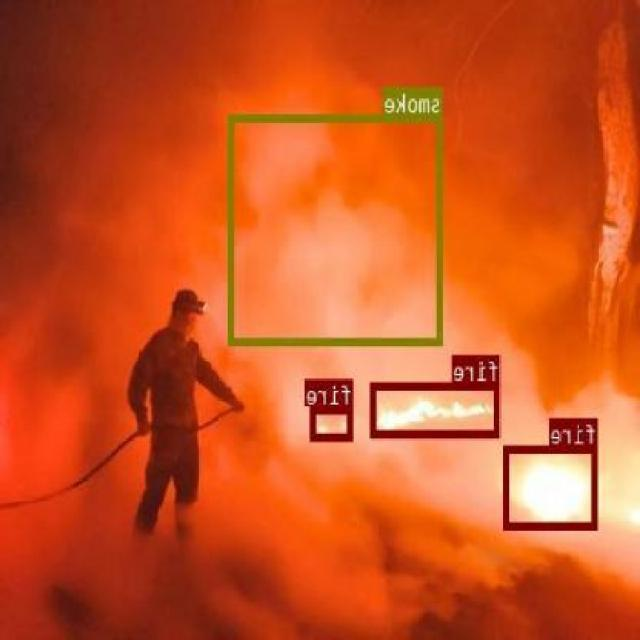Fire: (504, 444, 598, 530), (371, 381, 502, 437), (312, 406, 354, 440)
Smoke: (230, 114, 444, 343)
